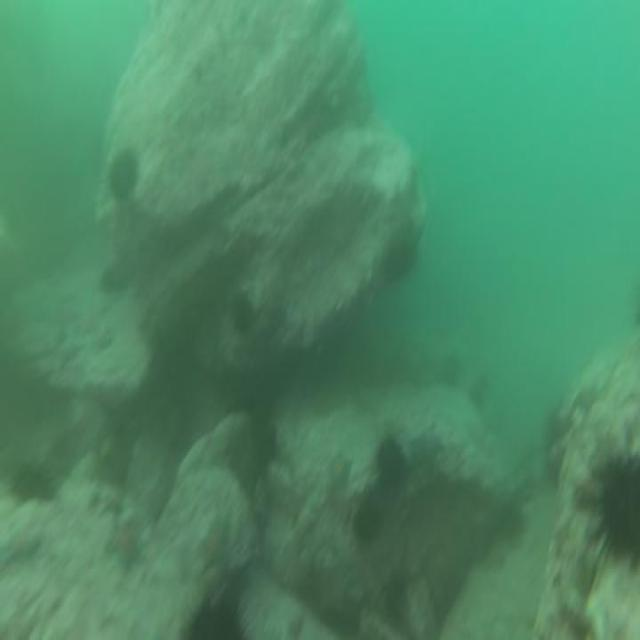echinus: (592, 447, 640, 574), (180, 596, 250, 640), (372, 432, 410, 494), (105, 142, 141, 204), (9, 460, 55, 506), (251, 416, 280, 476), (390, 231, 420, 289), (351, 491, 382, 547), (230, 290, 260, 342)
starfish: (101, 512, 154, 578), (197, 517, 234, 575), (325, 449, 355, 498)
